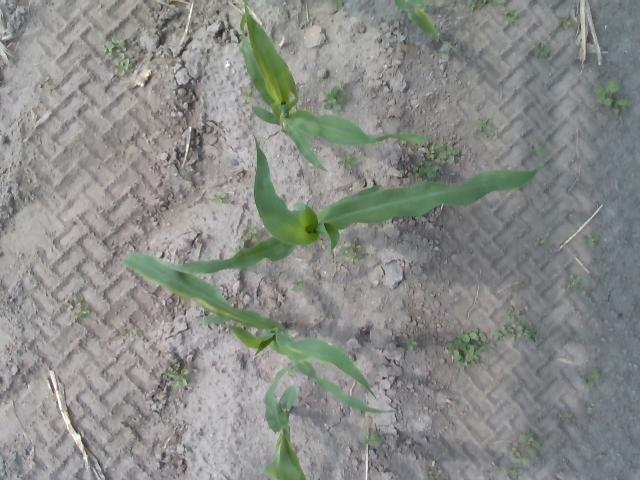Maize: (148, 134, 538, 275), (125, 252, 392, 415), (240, 0, 437, 174), (334, 0, 462, 53), (263, 360, 308, 480)
Weeds: (492, 310, 536, 349), (447, 330, 485, 370), (596, 82, 626, 112), (321, 88, 349, 112), (520, 431, 542, 456), (68, 296, 90, 318), (103, 38, 127, 58), (168, 368, 190, 387), (420, 160, 440, 176), (238, 228, 254, 248), (501, 9, 519, 26), (439, 148, 460, 162), (114, 60, 130, 76), (366, 429, 380, 445), (340, 156, 358, 168), (534, 46, 550, 58), (346, 241, 362, 252), (406, 164, 420, 176), (478, 116, 490, 130), (402, 338, 416, 350), (570, 274, 582, 287), (468, 0, 481, 11), (511, 443, 521, 456), (292, 278, 302, 290), (424, 148, 436, 158), (213, 193, 226, 202), (564, 412, 574, 423), (588, 234, 595, 246), (592, 371, 600, 377)
